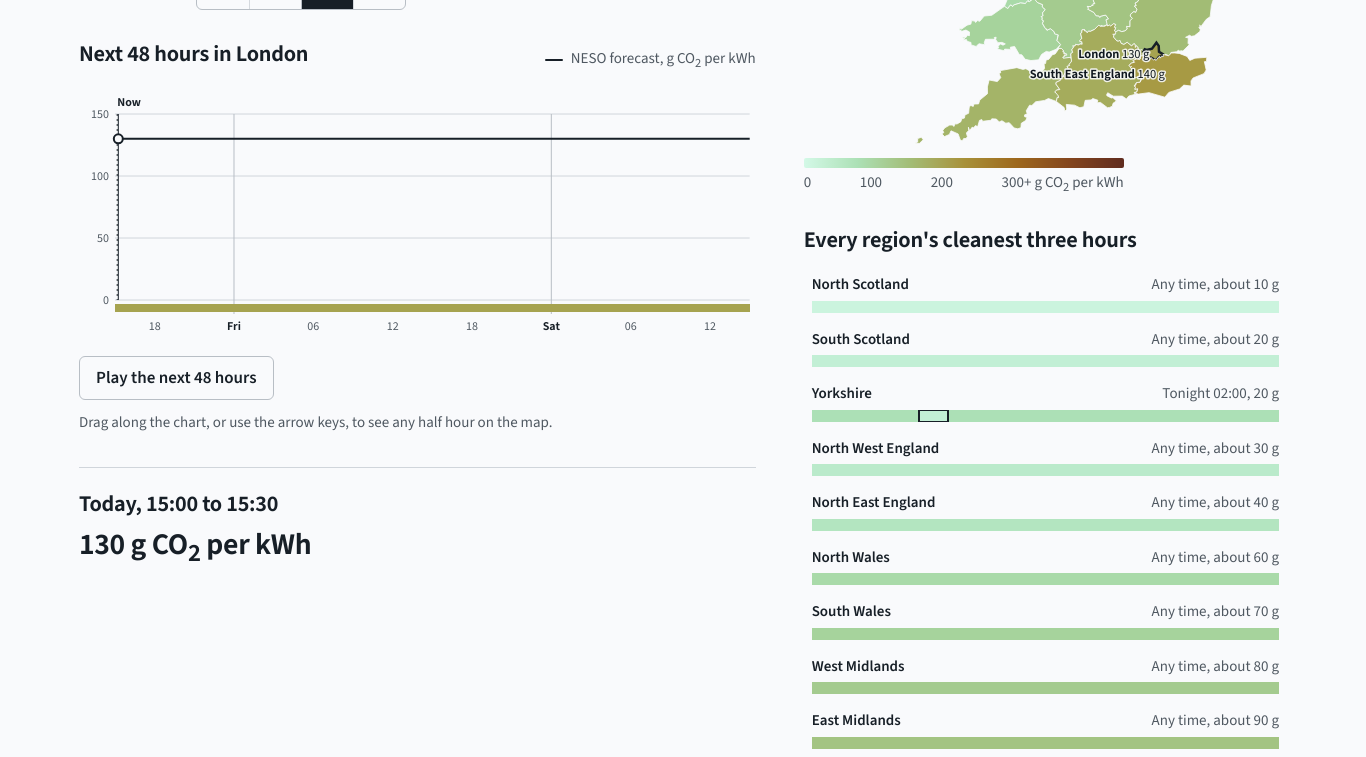
it: plays the next 48 hours, one half hour every 90 ms, and offers to pause
This screenshot has width=1366, height=757.
(page scrolled)
Click the button "Play the next 48 hours". click: (176, 378)
box: x1=79 y1=356 x2=274 y2=400
Wait 270 ms
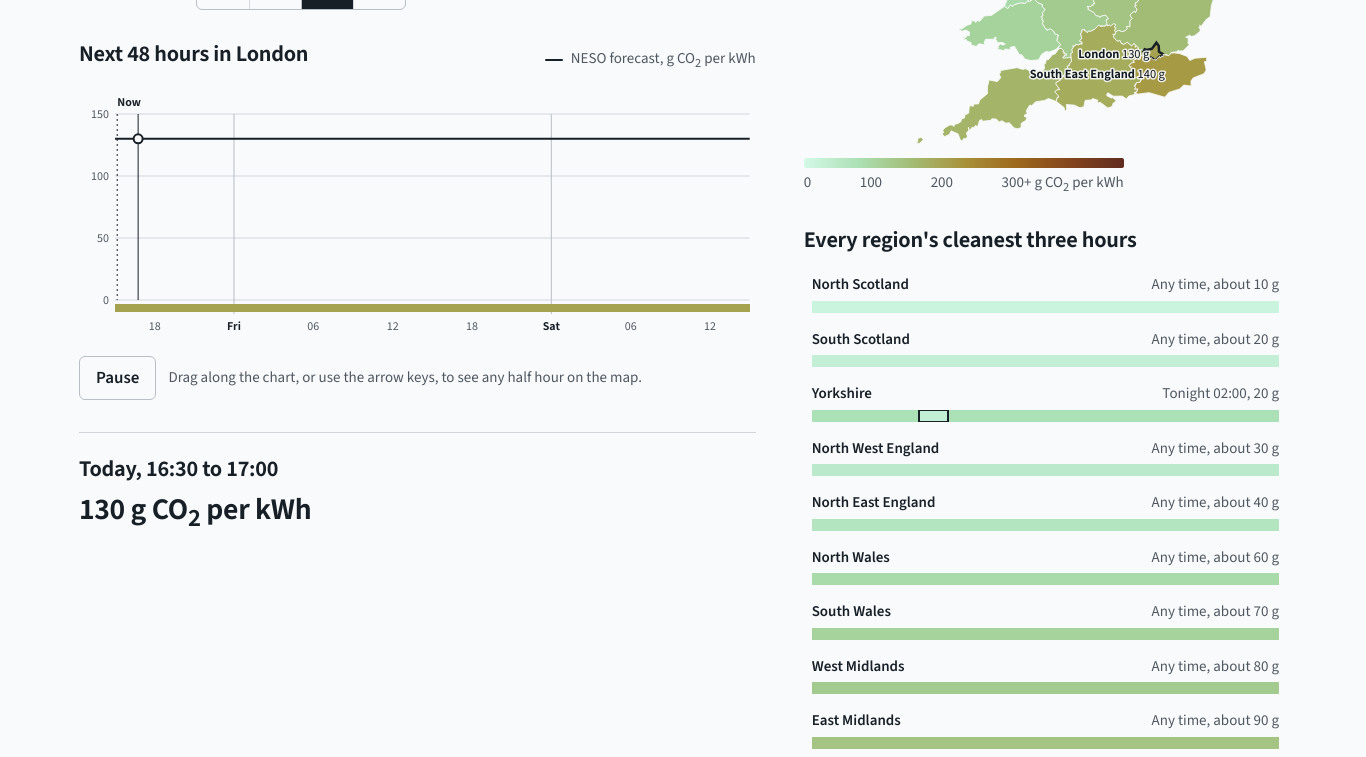
expect the button "Pause" is shown: met, box x1=79 y1=356 x2=156 y2=400
